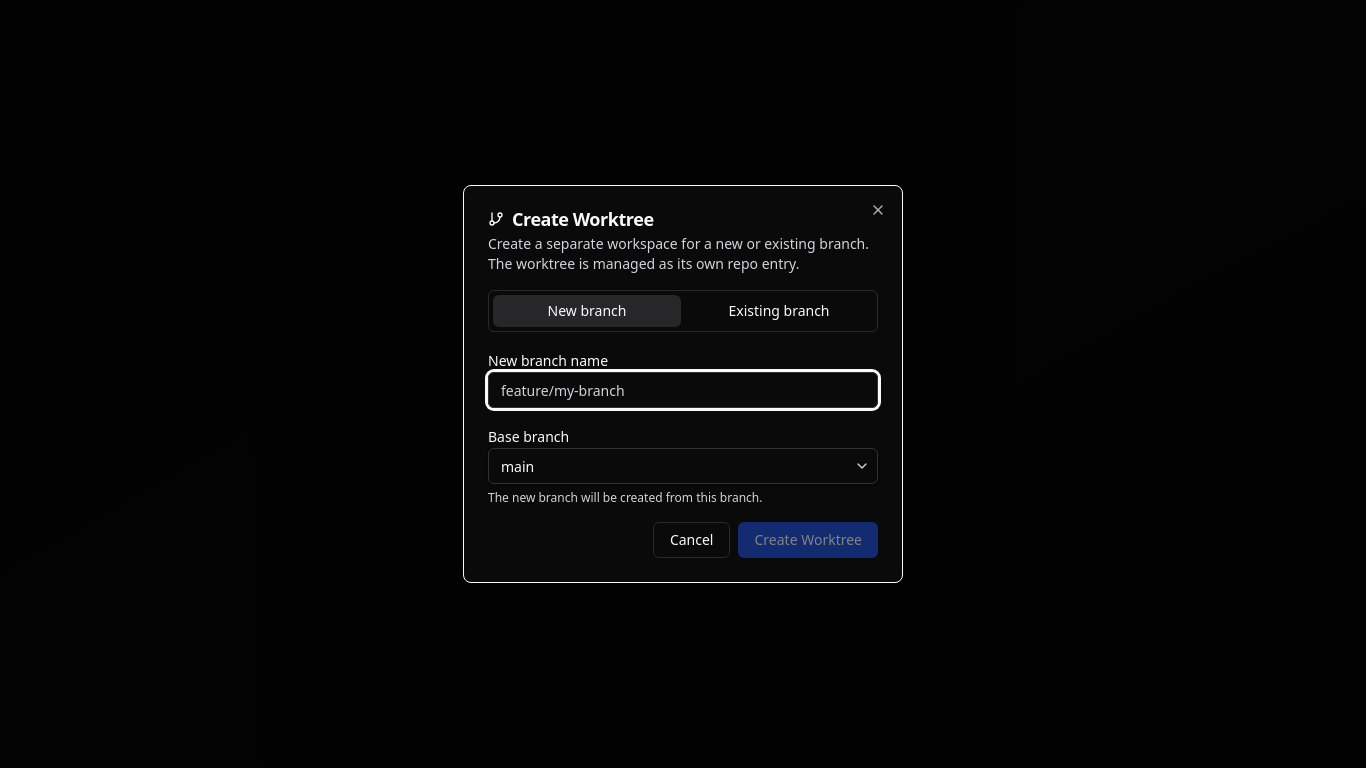
Test: CreateWorktreeDialog › lists only non-current, non-worktree local branches and remote-only branches in existing mode
This screenshot has width=1366, height=768.
Step 1. Click the button "Existing branch" → [779, 311], box [685, 295, 873, 327]
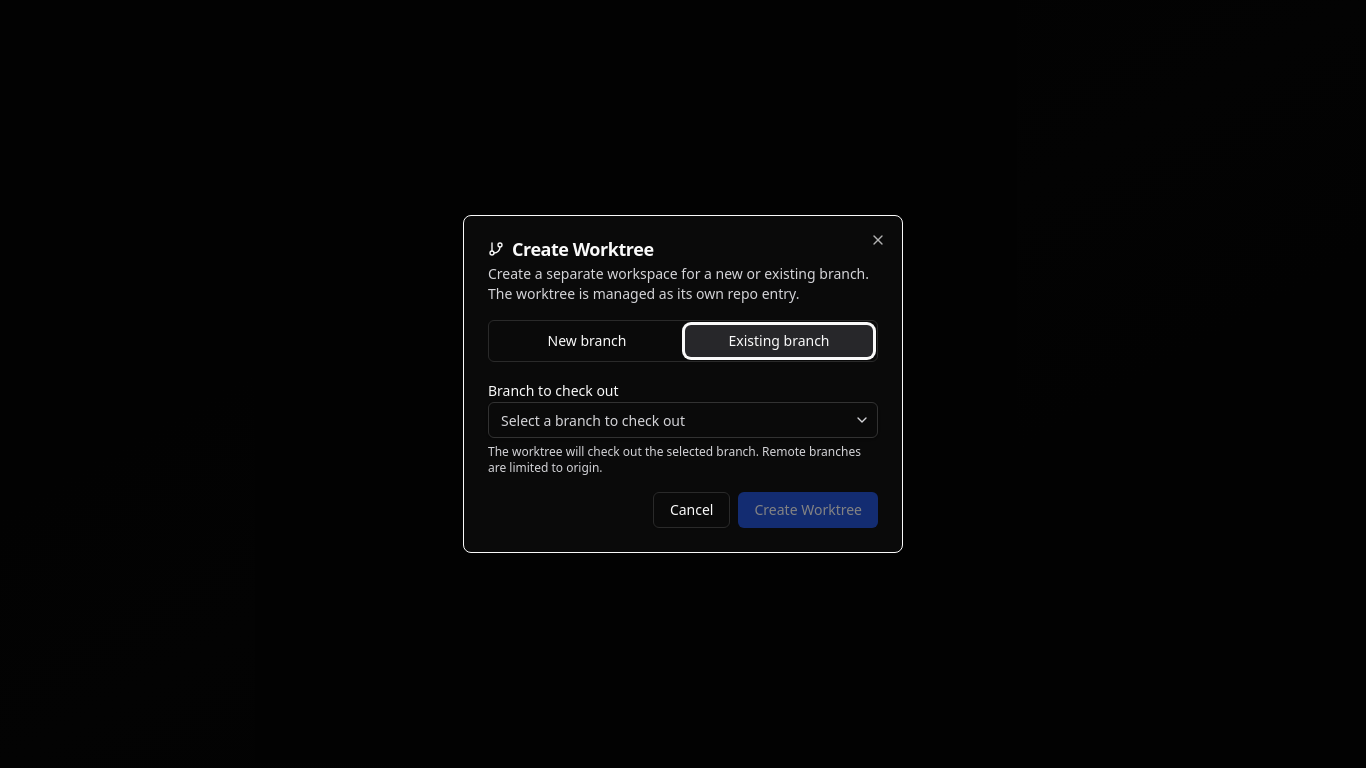
Step 2. Click the dropdown labelled "branch to check out" → [683, 420], box [488, 402, 878, 438]
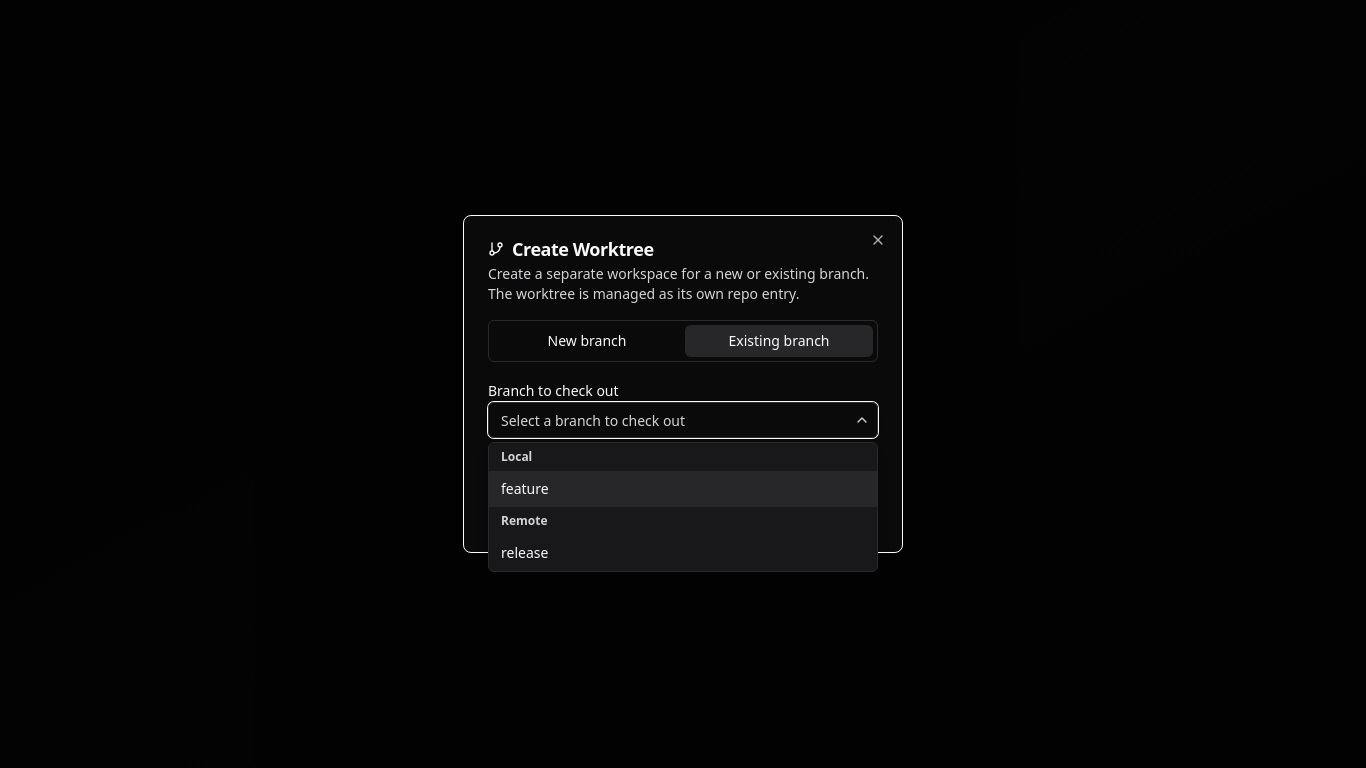
expect the option "main" is not shown: met
expect the option "feature" is shown: met, box [489, 471, 877, 507]
expect the option "release" is shown: met, box [489, 535, 877, 571]
